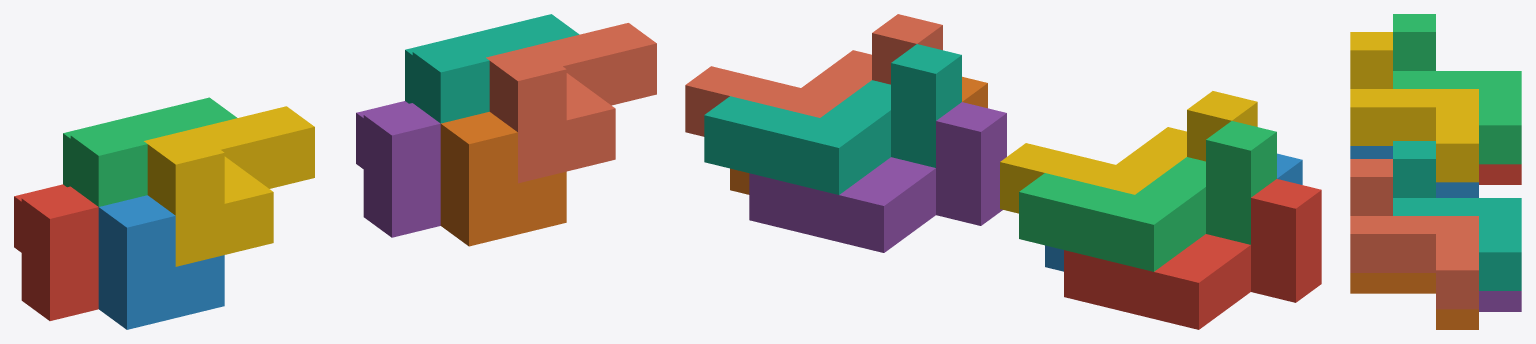
The model's file is tiling.obj.
3 views of the same model, side by side, from view 1: azimuth 30°, elevation 25°; view 2: azimuth 150°, elevation 25°; view 3: azimuth 270°, elevation 25° (orthographic). The views are drawn at different scales.
Parts seen in each view (by area): view 1: copy_1_domain_4, copy_1_domain_8, copy_1_domain_2, copy_1_domain_6, copy_1_domain_5, copy_1_domain_1, copy_1_domain_7, copy_1_domain_3; view 2: copy_1_domain_3, copy_1_domain_7, copy_1_domain_1, copy_1_domain_5, copy_1_domain_8, copy_1_domain_4, copy_1_domain_6, copy_1_domain_2; view 3: copy_1_domain_8, copy_1_domain_4, copy_1_domain_3, copy_1_domain_7, copy_1_domain_6, copy_1_domain_2, copy_1_domain_1, copy_1_domain_5.
Boxes of the visible parts, bbox=[...] form: copy_1_domain_4: bbox=[144, 106, 314, 266]; copy_1_domain_8: bbox=[486, 23, 656, 183]; copy_1_domain_2: bbox=[98, 195, 224, 329]; copy_1_domain_6: bbox=[440, 111, 566, 246]; copy_1_domain_5: bbox=[356, 101, 440, 237]; copy_1_domain_1: bbox=[14, 184, 98, 320]; copy_1_domain_7: bbox=[405, 14, 579, 123]; copy_1_domain_3: bbox=[63, 97, 237, 206]; copy_1_domain_3: bbox=[1019, 121, 1276, 271]; copy_1_domain_7: bbox=[704, 44, 961, 194]; copy_1_domain_1: bbox=[1064, 179, 1321, 329]; copy_1_domain_5: bbox=[749, 102, 1006, 252]; copy_1_domain_8: bbox=[685, 14, 942, 136]; copy_1_domain_4: bbox=[1000, 91, 1257, 213]; copy_1_domain_6: bbox=[730, 76, 987, 194]; copy_1_domain_2: bbox=[1045, 153, 1302, 271]; copy_1_domain_8: bbox=[1350, 159, 1478, 309]; copy_1_domain_4: bbox=[1350, 32, 1478, 182]; copy_1_domain_3: bbox=[1393, 14, 1521, 164]; copy_1_domain_7: bbox=[1393, 141, 1521, 290]; copy_1_domain_6: bbox=[1350, 273, 1478, 329]; copy_1_domain_2: bbox=[1350, 146, 1478, 197]; copy_1_domain_1: bbox=[1479, 164, 1521, 184]; copy_1_domain_5: bbox=[1479, 291, 1521, 311].
Bounding box in the file's own units: 13 × 3 × 4.
